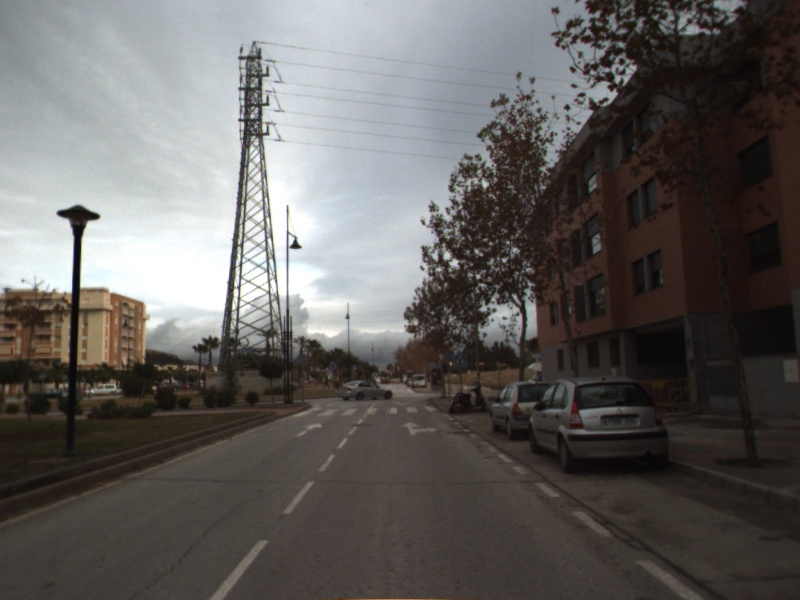STRAIGHT: (293, 420, 324, 438)
STRAIGHT_RIGHT: (398, 420, 440, 437)
